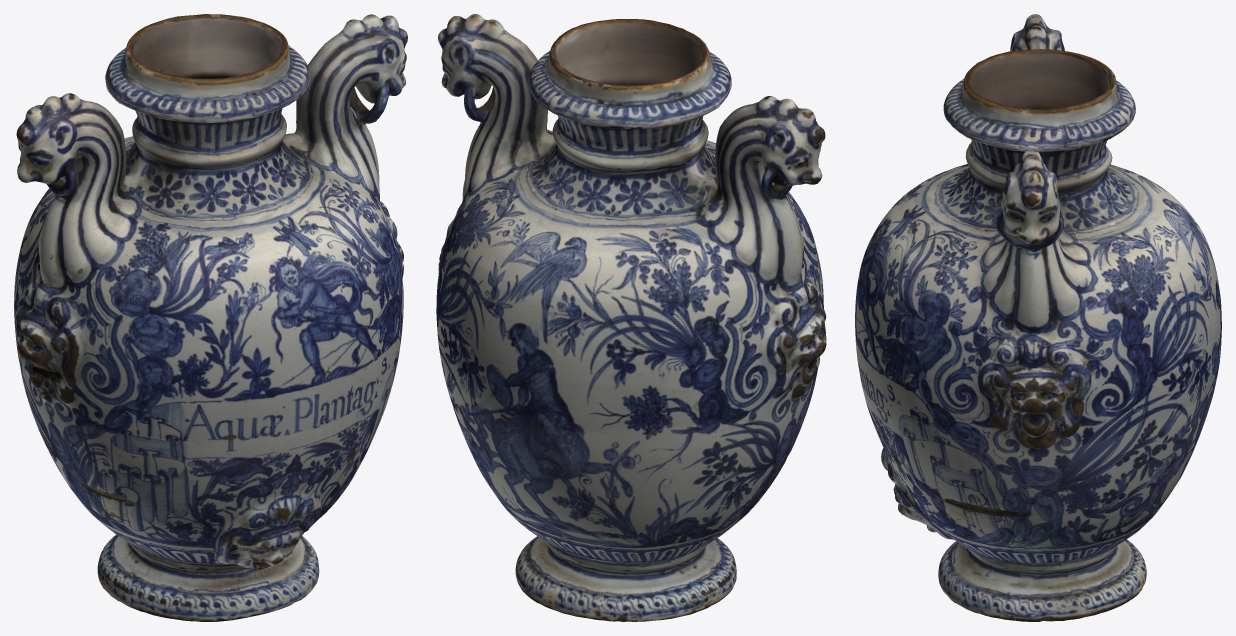
File: hydria_apothecary_vase.glb
The picture shows the model from 3 angles, left to right: view 1: azimuth 30°, elevation 25°; view 2: azimuth 150°, elevation 25°; view 3: azimuth 270°, elevation 25°; orthographic projection. The views are drawn at different scales.
Parts seen in each view (by area): view 1: Object_9, Object_8, Object_5, Object_7, Object_6, Object_4, Object_3; view 2: Object_9, Object_8, Object_6, Object_5, Object_4, Object_7, Object_3; view 3: Object_9, Object_6, Object_5, Object_4, Object_8, Object_7, Object_3.
Boxes of the visible parts, x1,y1,x2,y2 form: Object_9: (14,14,407,617); Object_8: (17,14,407,619); Object_5: (16,15,406,621); Object_7: (16,15,406,620); Object_6: (16,14,407,621); Object_4: (16,14,404,621); Object_3: (16,14,405,621); Object_9: (436,15,823,617); Object_8: (440,14,825,616); Object_6: (438,14,825,621); Object_5: (438,16,826,621); Object_4: (438,14,825,621); Object_7: (438,14,825,621); Object_3: (441,15,826,618); Object_9: (855,14,1221,621); Object_6: (884,14,1146,621); Object_5: (885,14,1145,621); Object_4: (886,14,1135,621); Object_8: (883,15,1144,620); Object_7: (893,16,1144,621); Object_3: (887,17,1119,621).
Bounding box in the file's own units: 327 × 429 × 284.
1 material, 1 textured.
